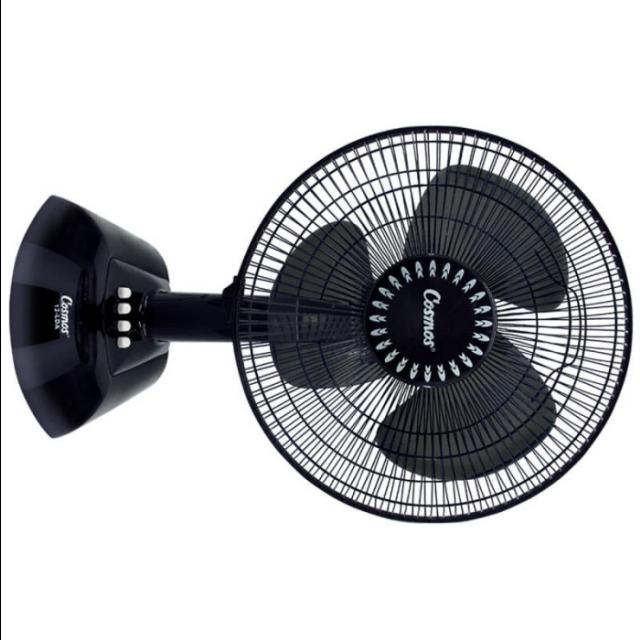fan: (10, 129, 638, 525)
